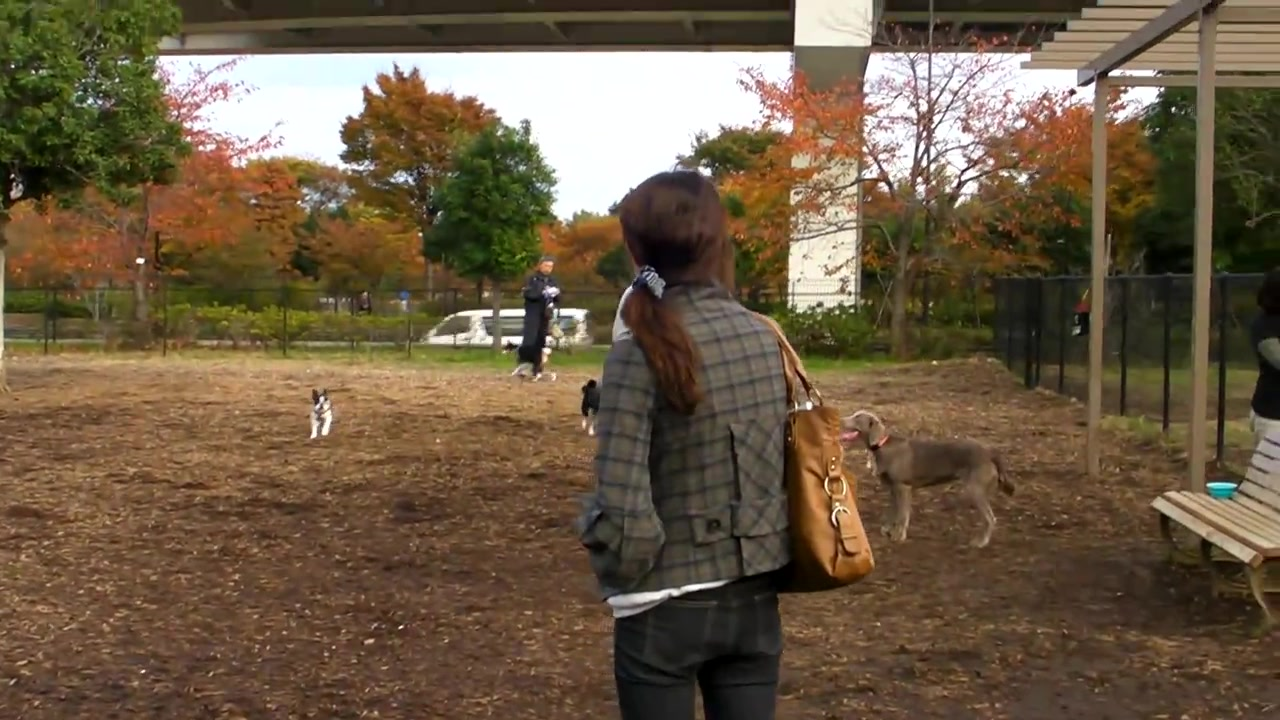dog: (842, 413, 1012, 549)
